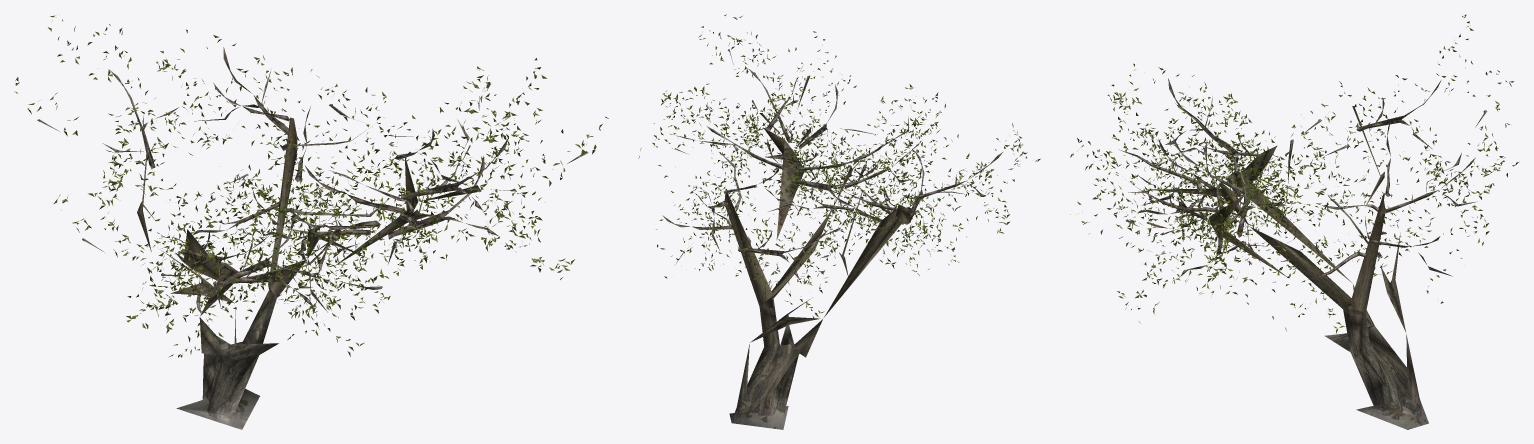
File: coastal_tree.glb
3 views of the same model, side by side, from view 1: azimuth 30°, elevation 25°; view 2: azimuth 150°, elevation 25°; view 3: azimuth 270°, elevation 25° (orthographic). The views are drawn at different scales.
Visible parts, largest first — view 1: island_tree_02_LOD0; view 2: island_tree_02_LOD0; view 3: island_tree_02_LOD0.
Part boxes in pixels (left/top/right/bottom): island_tree_02_LOD0: left=14, top=15, right=608, bottom=429; island_tree_02_LOD0: left=638, top=14, right=1040, bottom=429; island_tree_02_LOD0: left=1070, top=14, right=1518, bottom=429.
Size of the model in its own units: 3.77 by 3.4 by 4.03.
3 materials, 3 textured.
